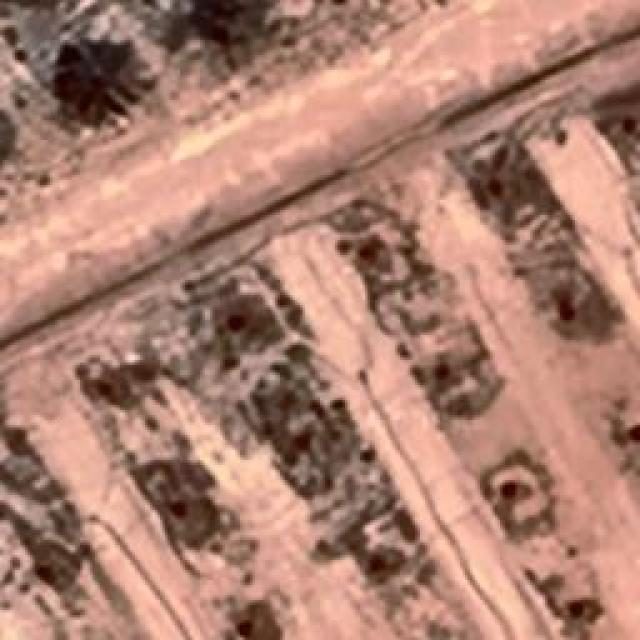PalmTree: (48, 38, 152, 120), (161, 0, 270, 64)
